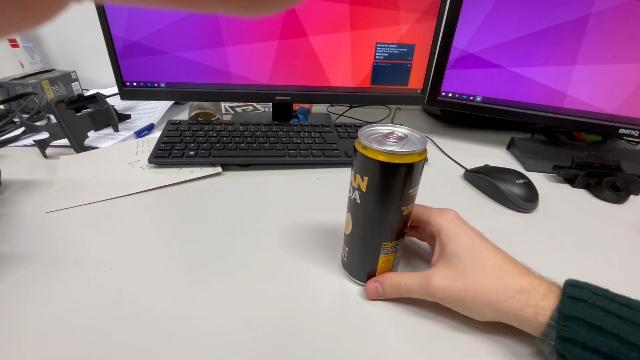OranSoda: (336, 120, 428, 290)
